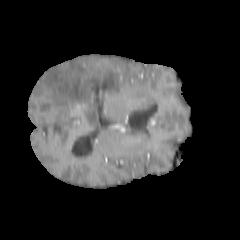glioma: (37, 60, 120, 133)
